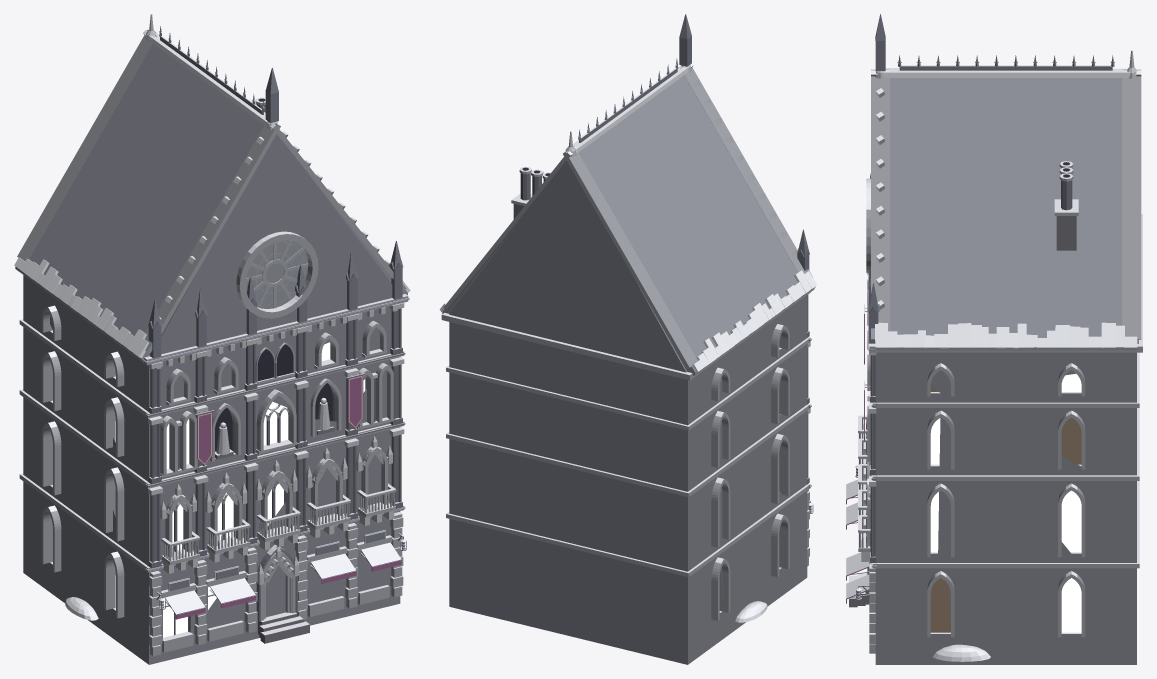
File: AR_Cidade_Relojoeiro.fbx
3 views of the same model, side by side, from view 1: azimuth 30°, elevation 25°; view 2: azimuth 150°, elevation 25°; view 3: azimuth 270°, elevation 25° (orthographic). The views are drawn at different scales.
Visible parts, largest first — view 1: AR_Cidade_Relojoeiro; view 2: AR_Cidade_Relojoeiro; view 3: AR_Cidade_Relojoeiro.
Boxes of the visible parts, bbox=[...] form: AR_Cidade_Relojoeiro: bbox=[14, 14, 410, 664]; AR_Cidade_Relojoeiro: bbox=[439, 14, 816, 664]; AR_Cidade_Relojoeiro: bbox=[846, 14, 1142, 664].
Bounding box in the file's own units: 16.67 × 32.21 × 14.77.
